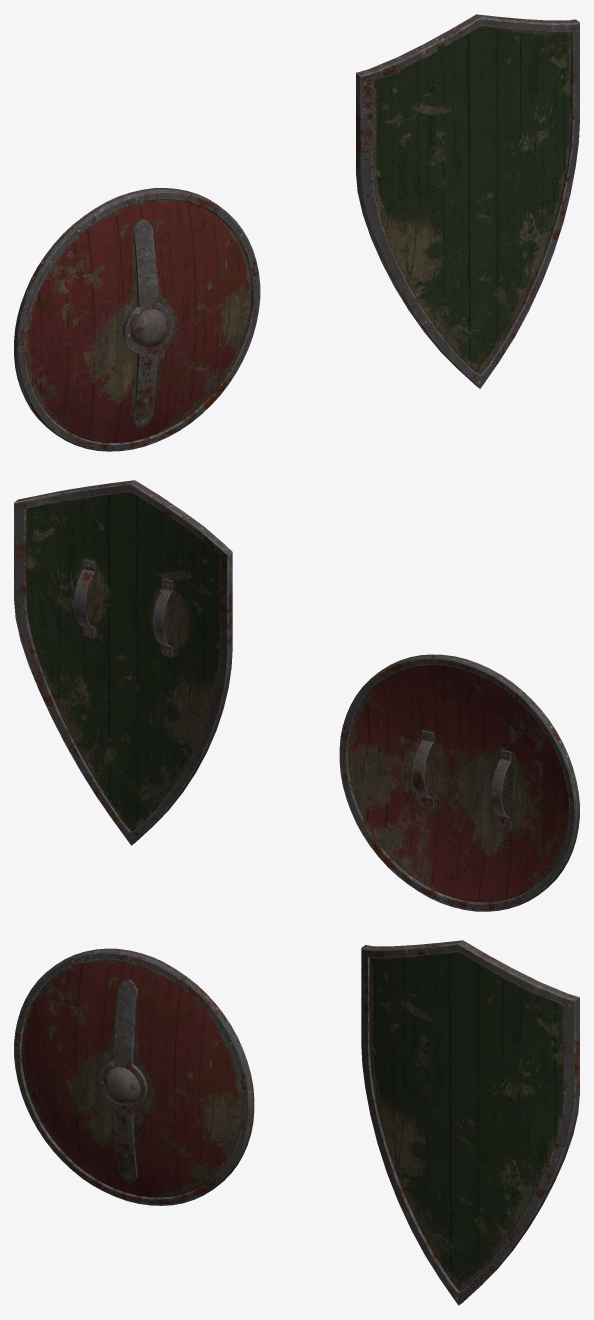
The model's file is escudos glb.draco.glb.
The picture shows the model from 3 angles, top to bottom: view 1: azimuth 30°, elevation 25°; view 2: azimuth 150°, elevation 25°; view 3: azimuth 330°, elevation 25°; orthographic projection. The views are drawn at different scales.
Visible parts, largest first — view 1: Heater_shield, Round_shield; view 2: Heater_shield, Round_shield; view 3: Heater_shield, Round_shield.
Boxes of the visible parts, <box> form: Heater_shield: <box>356,14,579,388</box>; Round_shield: <box>14,188,260,451</box>; Heater_shield: <box>14,480,232,845</box>; Round_shield: <box>339,654,579,911</box>; Heater_shield: <box>361,940,579,1305</box>; Round_shield: <box>14,948,254,1205</box>.
Size of the model in its own units: 1.17 by 0.7266 by 0.1035.
Materials: 2 (2 with a texture image).
